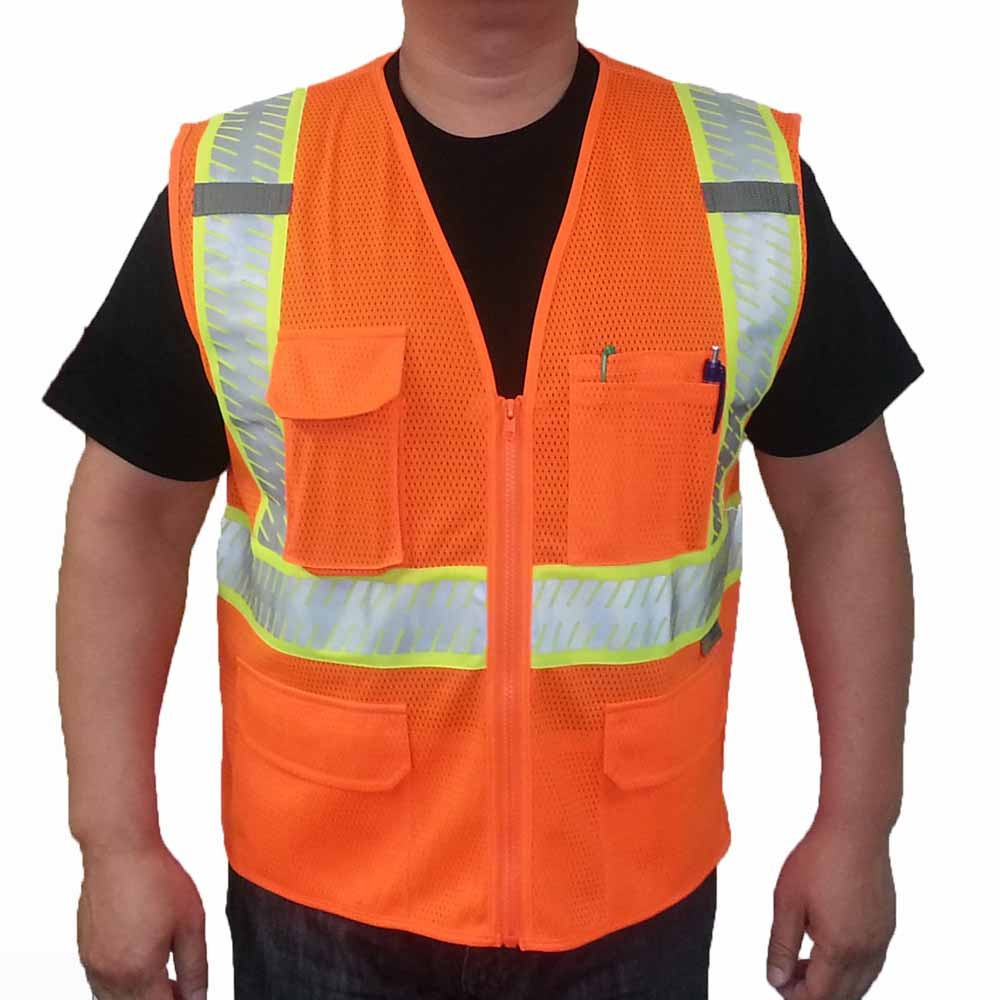Reflective vest: (158, 48, 816, 960)
